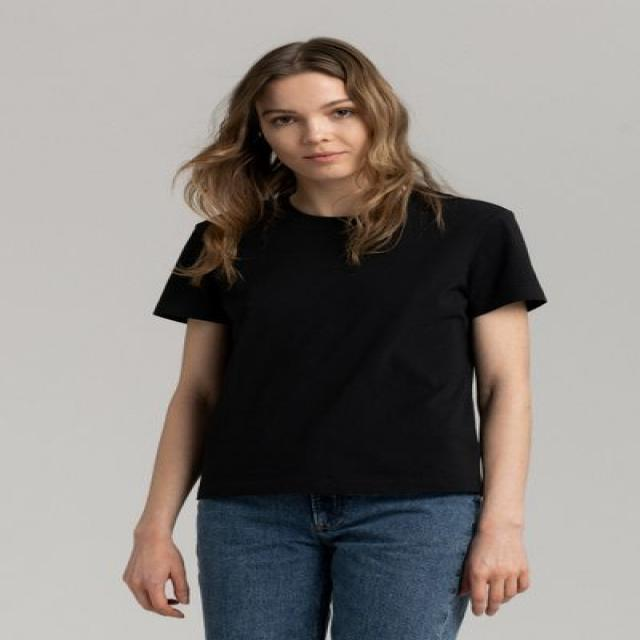shoulder: (174, 198, 525, 265)
